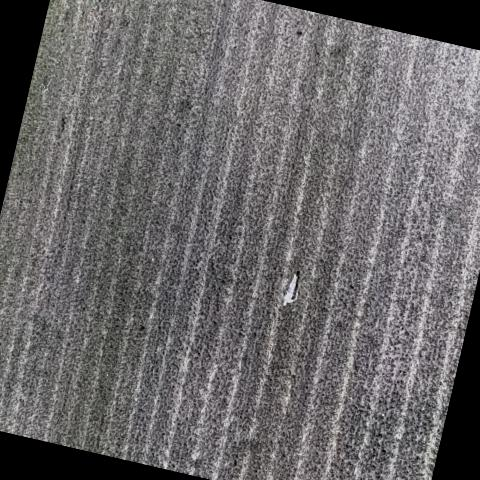person: (278, 265, 306, 310)
